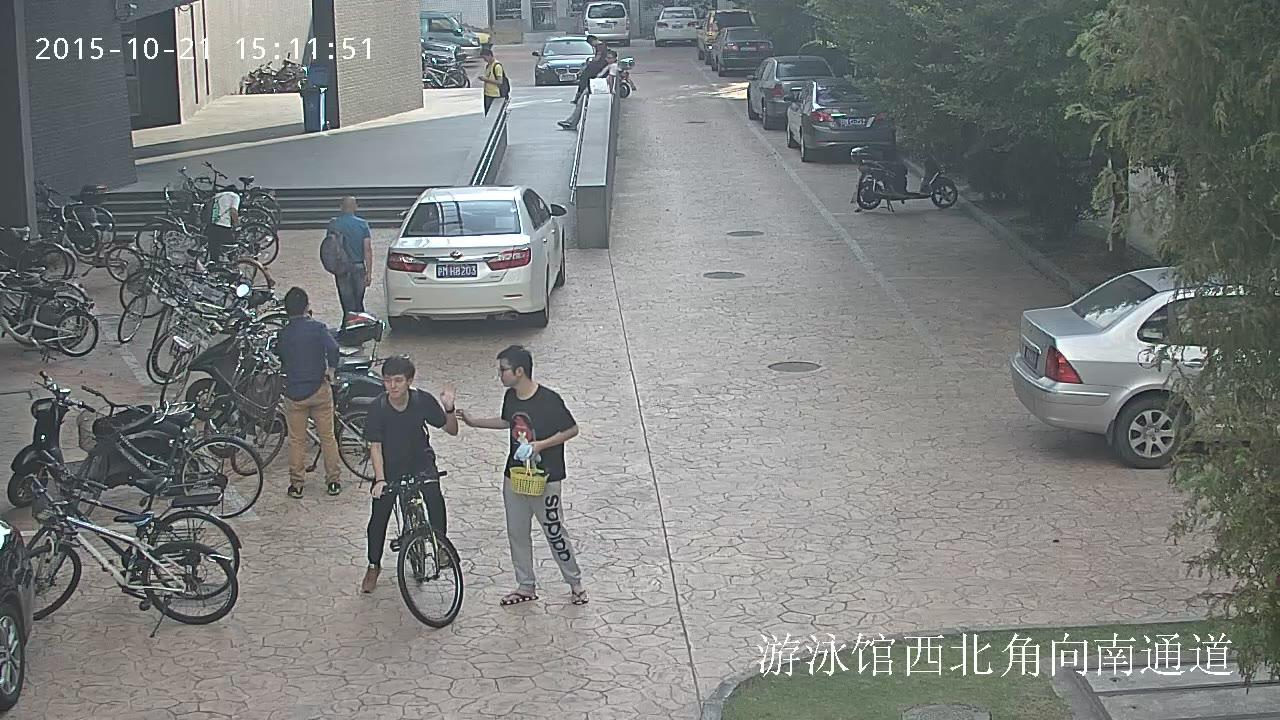person: (453, 345, 589, 605), (359, 355, 465, 628), (360, 355, 460, 592), (274, 285, 343, 499), (320, 194, 372, 326), (556, 51, 618, 130), (199, 184, 240, 262), (567, 34, 607, 103), (477, 48, 509, 117)
